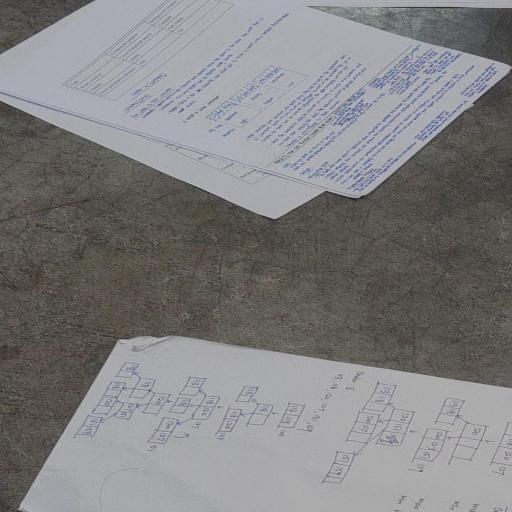paper: (0, 0, 512, 218), (0, 334, 512, 512)
